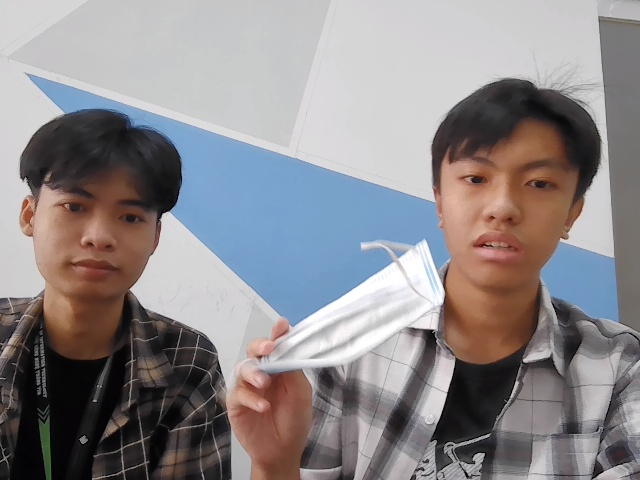human: (432, 75, 599, 283), (21, 103, 185, 303)
mask: (244, 244, 445, 369)
